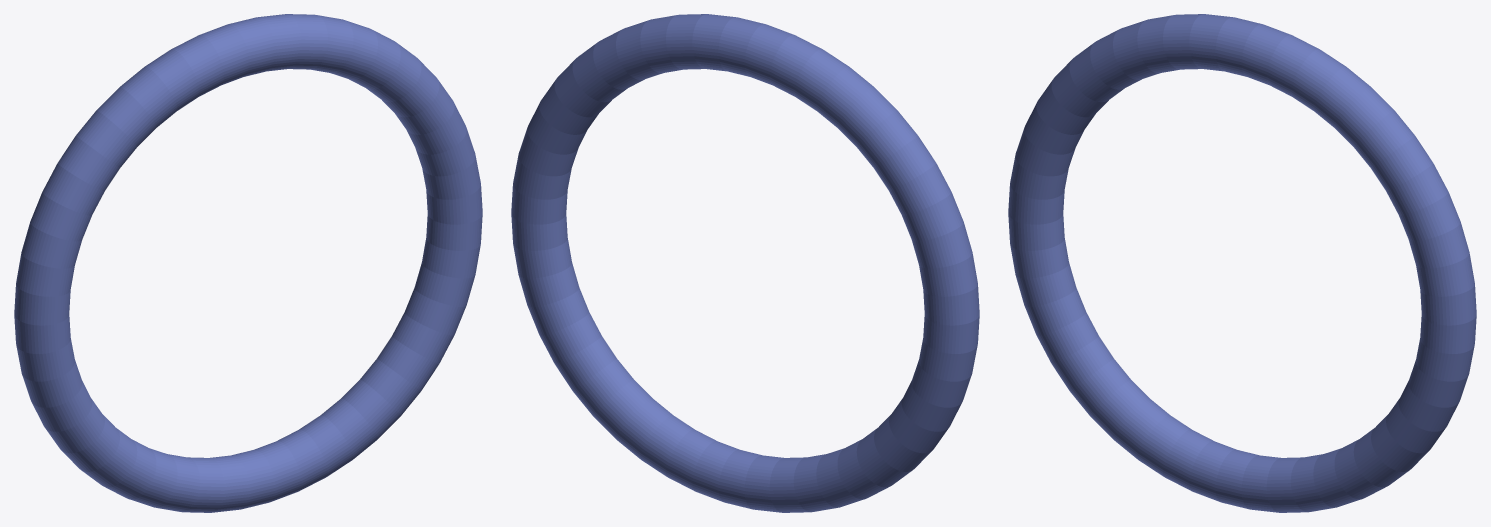
The picture shows the model from 3 angles, left to right: view 1: azimuth 30°, elevation 25°; view 2: azimuth 150°, elevation 25°; view 3: azimuth 330°, elevation 25°; orthographic projection.
Visible parts, largest first — view 1: world; view 2: world; view 3: world.
Part boxes in pixels (x1,y1,x2,y2): world: [14, 14, 482, 512]; world: [511, 14, 979, 512]; world: [1008, 14, 1476, 512].
Bounding box in the file's own units: 19.33 × 19.3 × 2.
